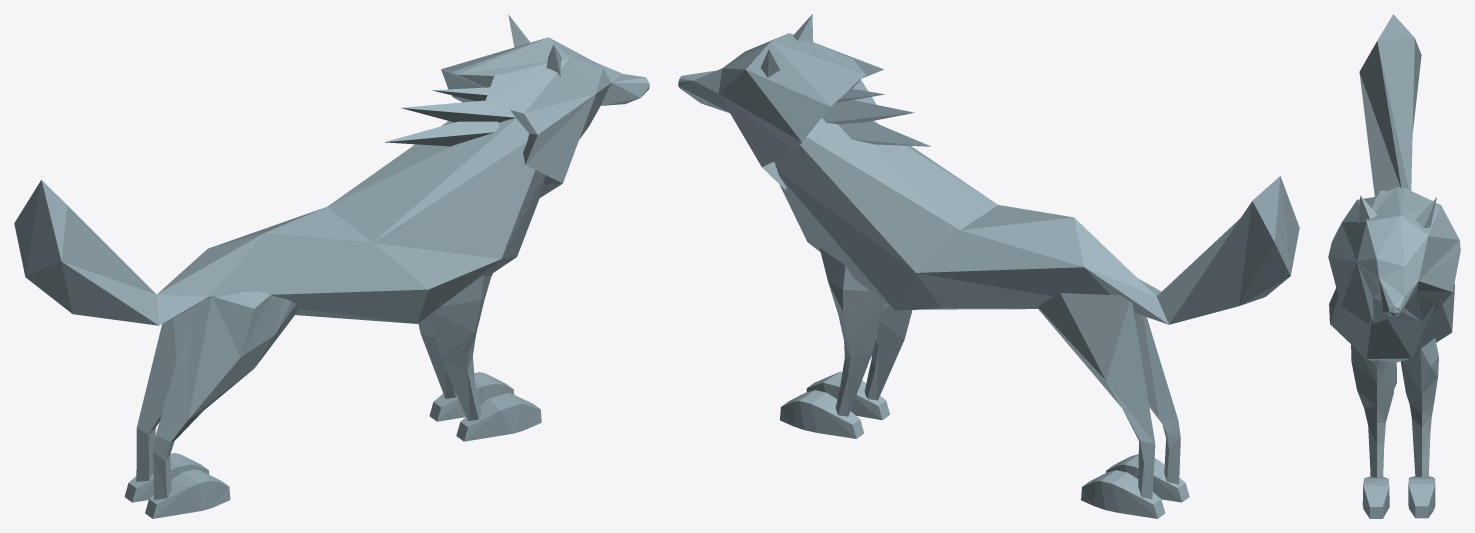
File: wolf_One.gltf
The picture shows the model from 3 angles, left to right: view 1: azimuth 30°, elevation 25°; view 2: azimuth 150°, elevation 25°; view 3: azimuth 270°, elevation 25°; orthographic projection. The views are drawn at different scales.
Visible parts, largest first — view 1: 狼.1; view 2: 狼.1; view 3: 狼.1.
Part boxes in pixels (x1,y1,x2,y2): 狼.1: (14, 14, 649, 518); 狼.1: (678, 14, 1299, 518); 狼.1: (1328, 14, 1460, 518).
Bounding box in the file's own units: 574 × 342 × 124.
